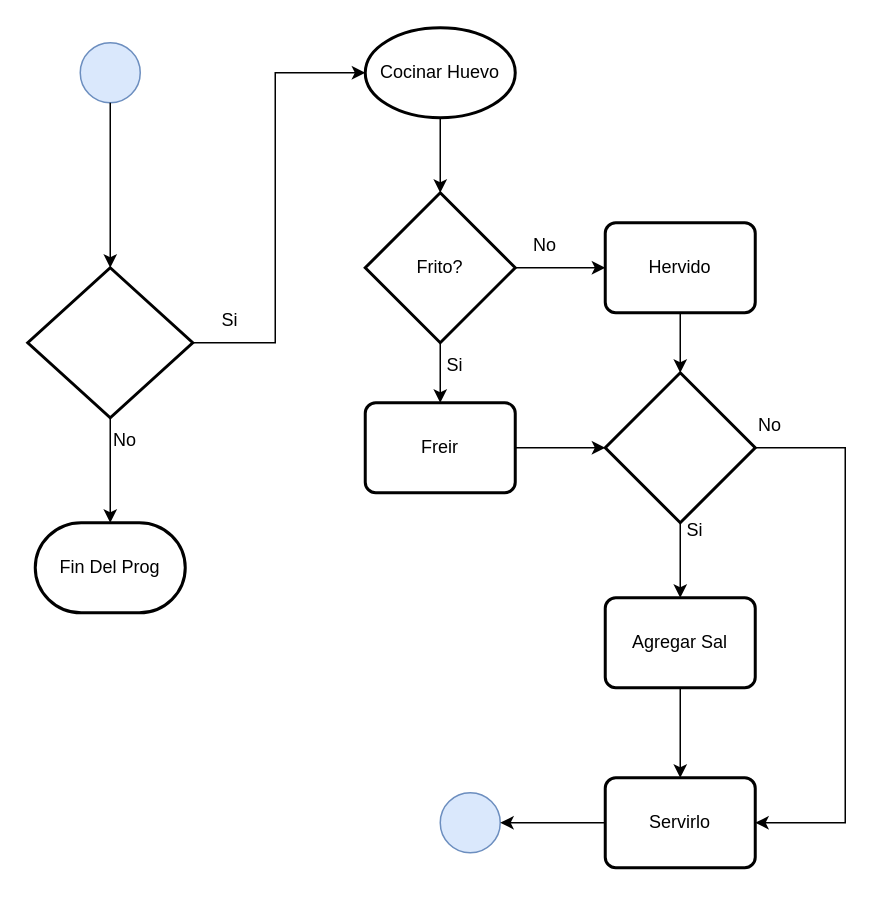
This 884x909 diagram has some shape labels left out. Here are the shapes that lost their labels. From the top down, the centre of each, then its label:
point (110, 342): Quieres Repetir?
point (679, 447): Quieres Sal?
point (469, 822): cicio1
